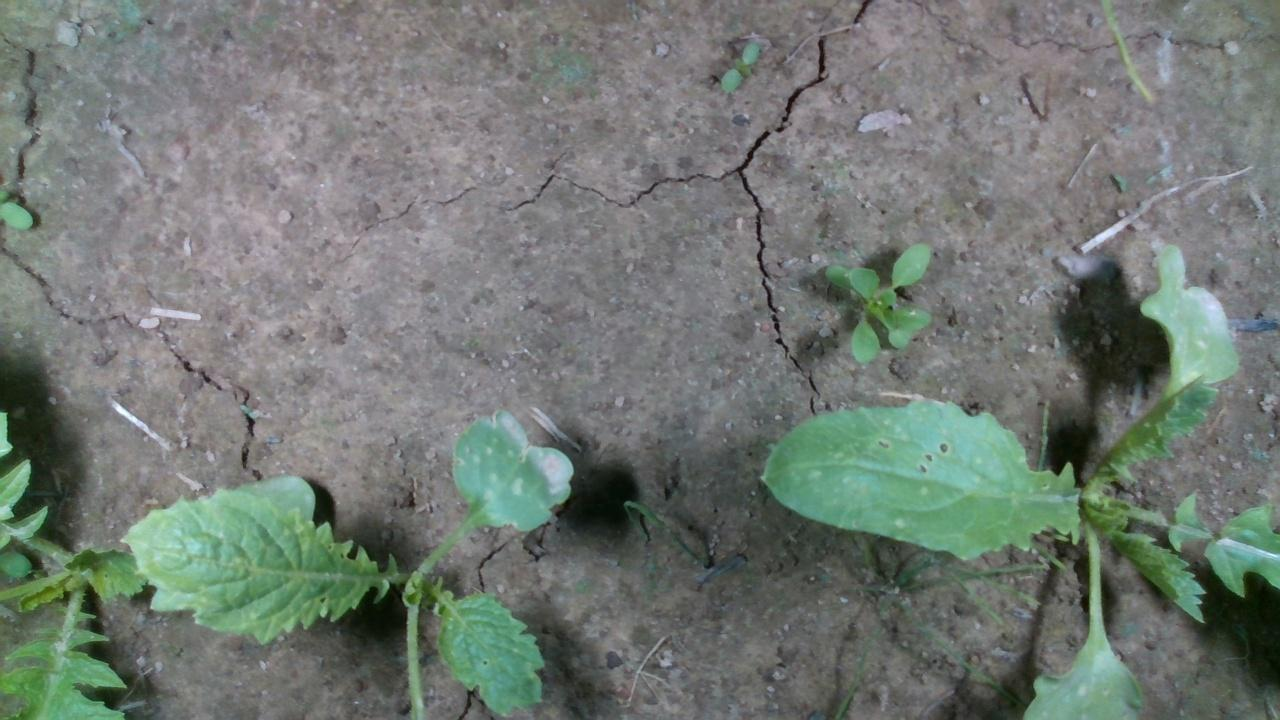weed: (719, 38, 760, 92)
